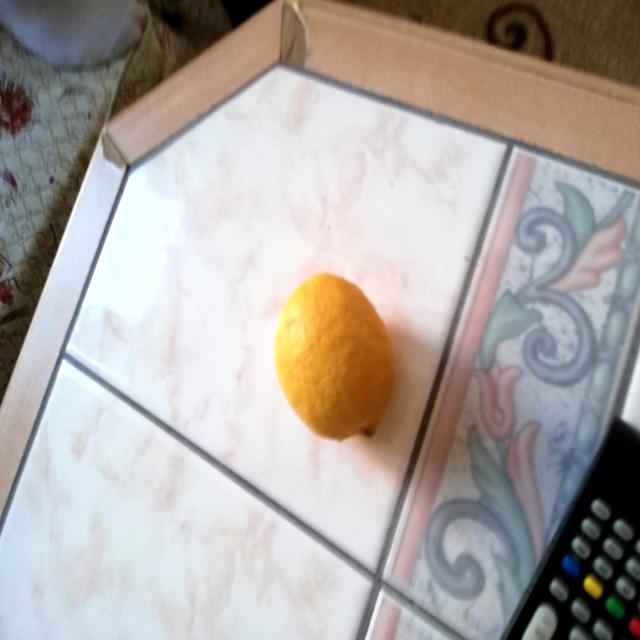lemon: (268, 267, 400, 449)
